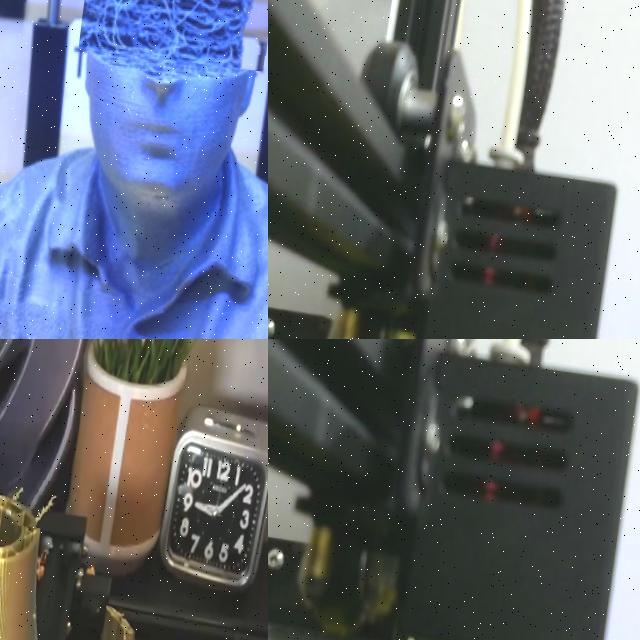spaghetti: (77, 0, 268, 73), (10, 468, 64, 530)
